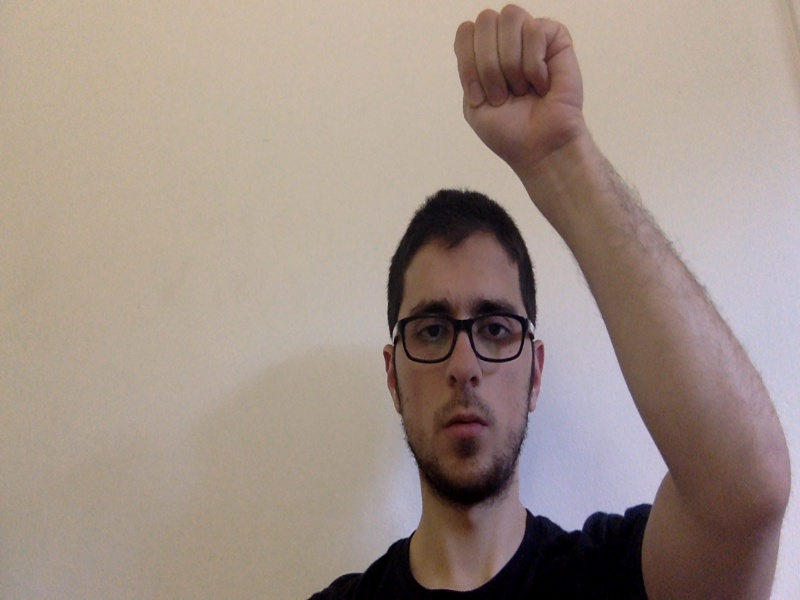0-hand: (454, 4, 583, 165)
